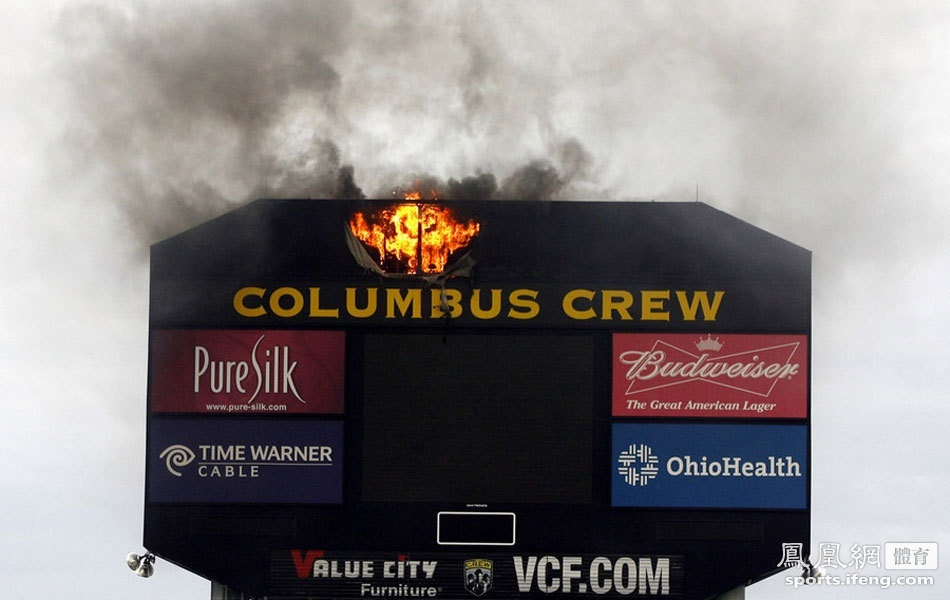fire: (349, 186, 480, 272)
